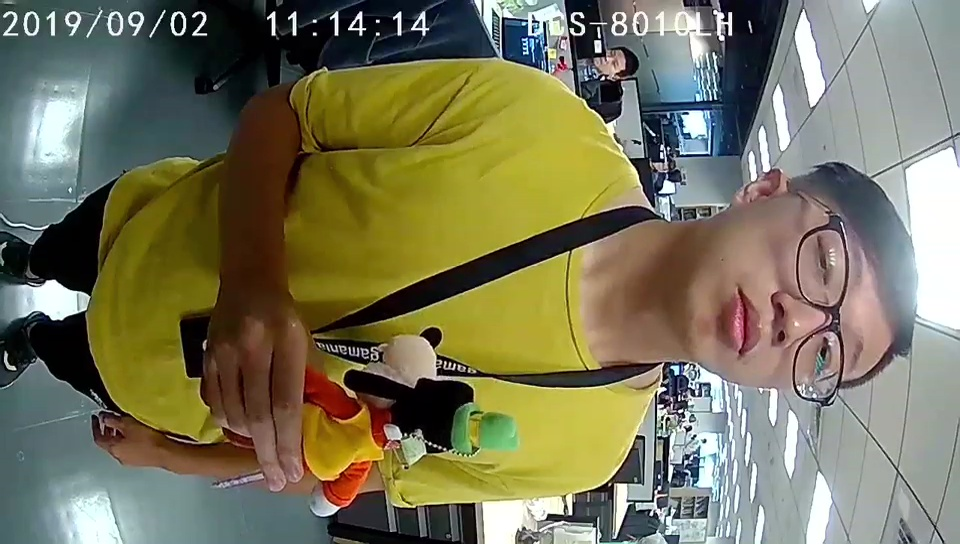goofy: (306, 367, 517, 517)
